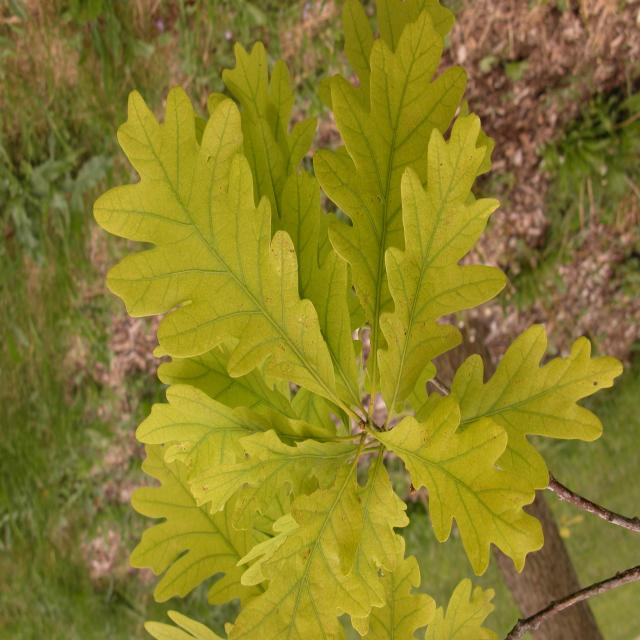Chlorosis: (59, 24, 616, 640)
